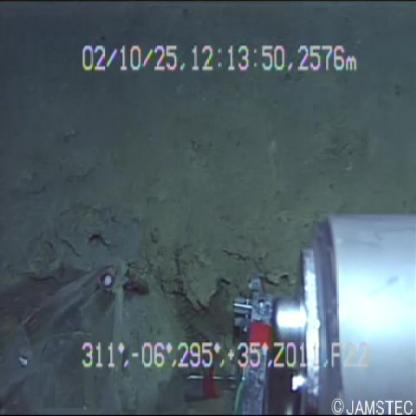Rov: (180, 193, 416, 415)
Rác: (1, 249, 146, 416)
